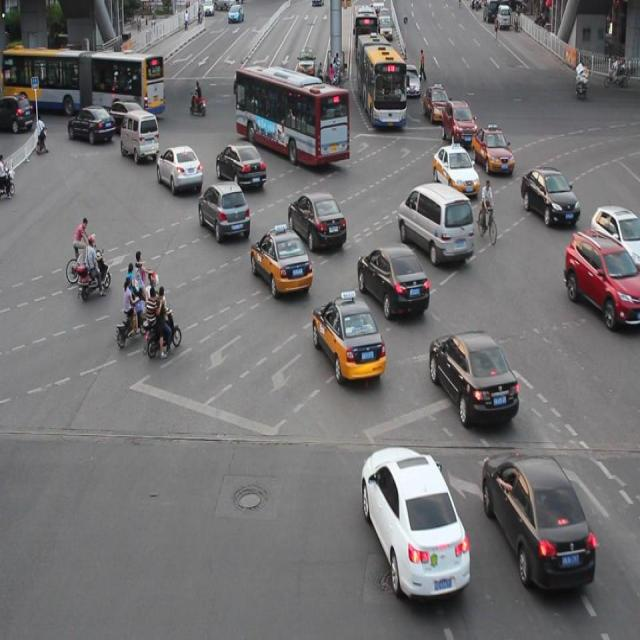car: (360, 445, 469, 596), (480, 448, 594, 589), (427, 328, 519, 424), (562, 227, 640, 330), (311, 293, 385, 380), (356, 242, 429, 318), (250, 226, 312, 297), (287, 190, 346, 252), (588, 202, 640, 272), (520, 165, 578, 226), (198, 179, 250, 241), (432, 143, 479, 198), (215, 140, 266, 188), (156, 144, 203, 194), (471, 125, 513, 175), (68, 106, 116, 145), (442, 99, 474, 145), (102, 100, 144, 135)
truck: (396, 182, 474, 265), (120, 109, 160, 160)
van: (235, 66, 348, 166)
